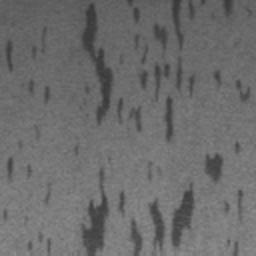Red iron sheet: (81, 0, 251, 142), (82, 141, 244, 256), (5, 27, 51, 102), (6, 156, 31, 177), (27, 239, 51, 256), (233, 242, 238, 256)
